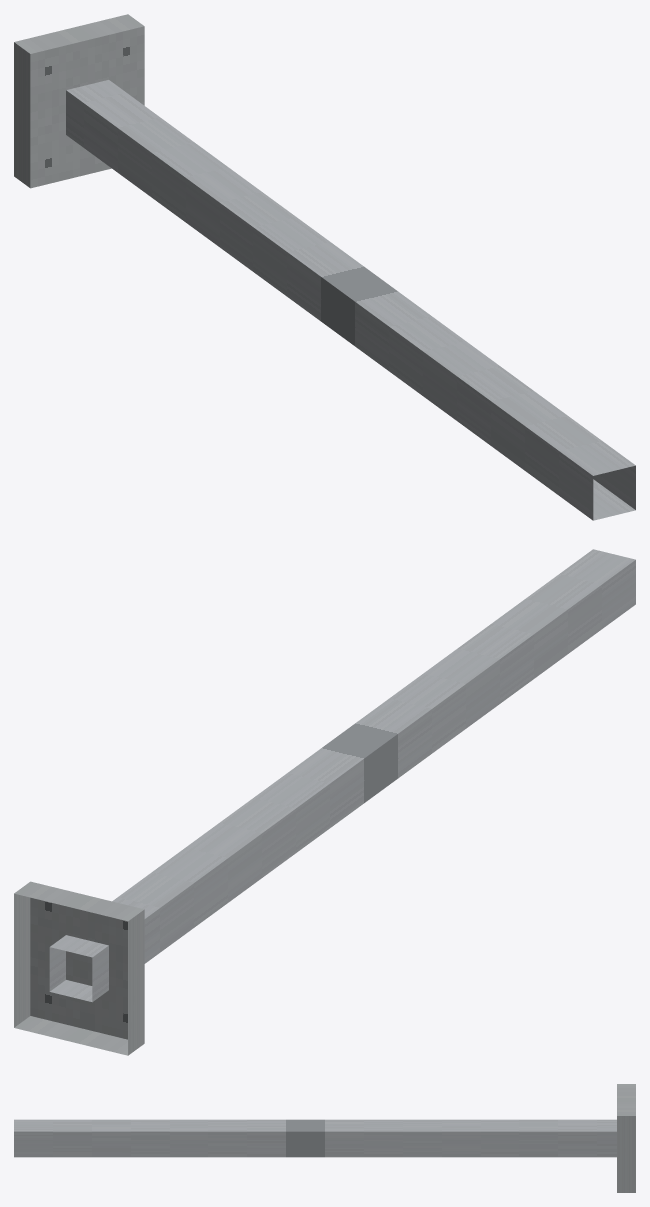
Rendered from opener_rail_2.obj.
3 views of the same model, one above another, from view 1: azimuth 30°, elevation 25°; view 2: azimuth 150°, elevation 25°; view 3: azimuth 270°, elevation 25° (orthographic). The views are drawn at different scales.
Parts seen in each view (by area): view 1: rail; view 2: rail; view 3: rail.
Boxes of the visible parts, x1=… form: rail: x1=14, y1=14, x2=635, y2=520; rail: x1=14, y1=549, x2=635, y2=1055; rail: x1=14, y1=1084, x2=635, y2=1192.
Bounding box in the file's own units: 0.25 × 0.2812 × 2.06.
